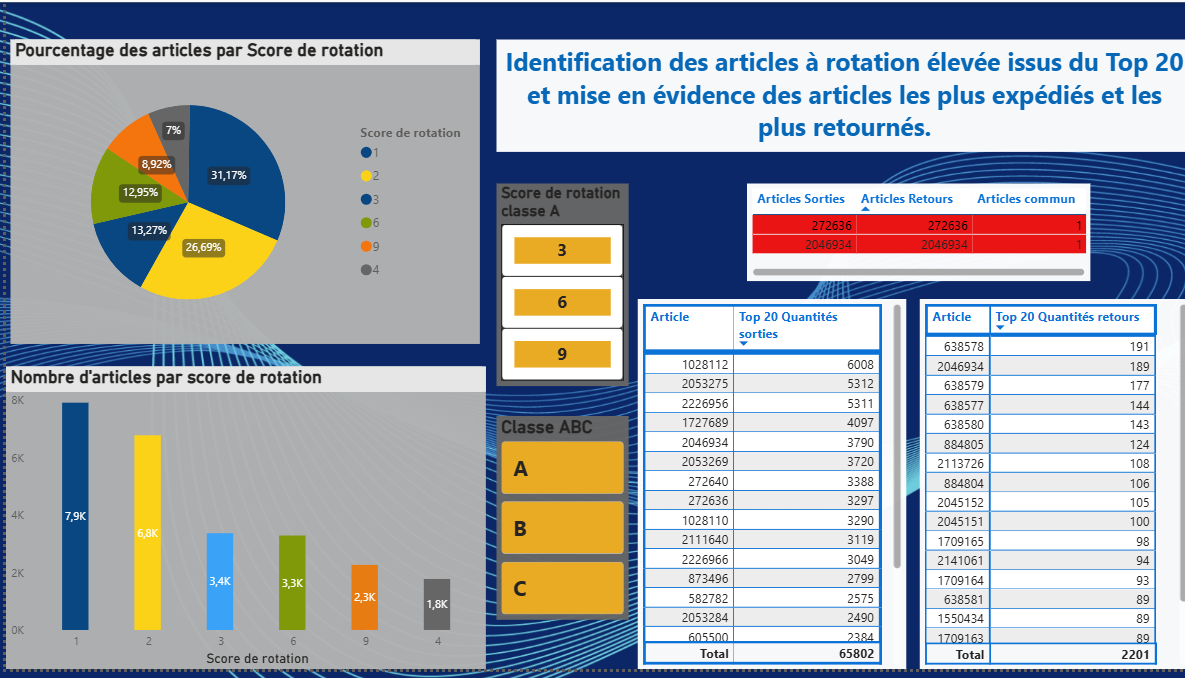

What the dashboard file says about the page in this screenshot:
{"tool":"powerbi","page":{"name":"Analyse rotation des articles","canvas":[1280,720],"ordinal":3},"visuals":[{"type":"ribbonChart","title":"Nombre d''articles par score de rotation","fields":{"Category":["Tableau final.Score de rotation"],"Y":["CountNonNull(Tableau final.Article)"]},"box":[0,393.5,518.2,327.1],"z":0},{"type":"pieChart","title":"Pourcentage des articles par Score de rotation","fields":{"Category":["Tableau final.Score de rotation"],"Y":["CountNonNull(Tableau final.Article)"]},"box":[4.9,40.5,506.8,328.7],"z":1000},{"type":"advancedSlicerVisual","title":"Score de rotation classe A","fields":{"Values":["Tableau final.Score de rotation"]},"box":[529.5,195.9,142.5,218.6],"z":2000},{"type":"tableEx","fields":{"Values":["TOP20 Retours.Article","Sum(TOP20 Retours.Quantité retours)"]},"box":[986.1,320.6,294.7,399.9],"z":3000},{"type":"tableEx","fields":{"Values":["TOP20 Sorties.Article","Sum(TOP20 Sorties.Quantité sorties)"]},"box":[681.7,320.6,289.8,399.9],"z":4000},{"type":"tableEx","fields":{"Values":["TOP20 Sorties.Article","TOP20 Retours.Article","Calendrier.Article commun"]},"box":[799.9,195.9,370.8,105.2],"z":5000},{"type":"advancedSlicerVisual","fields":{"Values":["Tableau final.Classe ABC finale"]},"box":[529.5,446.9,142.5,220.2],"z":6000},{"type":"textbox","box":[529.5,40.5,751.3,121.4],"z":7000}]}

Visuals, with their boxes in screenshot pixels (x1, y1, x2, y2), scaled from the page's 1280x720 canvas onto the 1185x678 screenshot:
"Nombre d''articles par score de rotation" ribbonChart: 0 371 480 677
"Pourcentage des articles par Score de rotation" pieChart: 5 38 474 348
"Score de rotation classe A" advancedSlicerVisual: 490 184 622 390
tableEx - TOP20 Retours.Article x Sum(TOP20 Retours.Quantité retours): 913 302 1184 677
tableEx - TOP20 Sorties.Article x Sum(TOP20 Sorties.Quantité sorties): 631 302 899 677
tableEx - TOP20 Sorties.Article x TOP20 Retours.Article: 741 184 1084 284
advancedSlicerVisual - Tableau final.Classe ABC finale: 490 421 622 628
textbox: 490 38 1184 152
